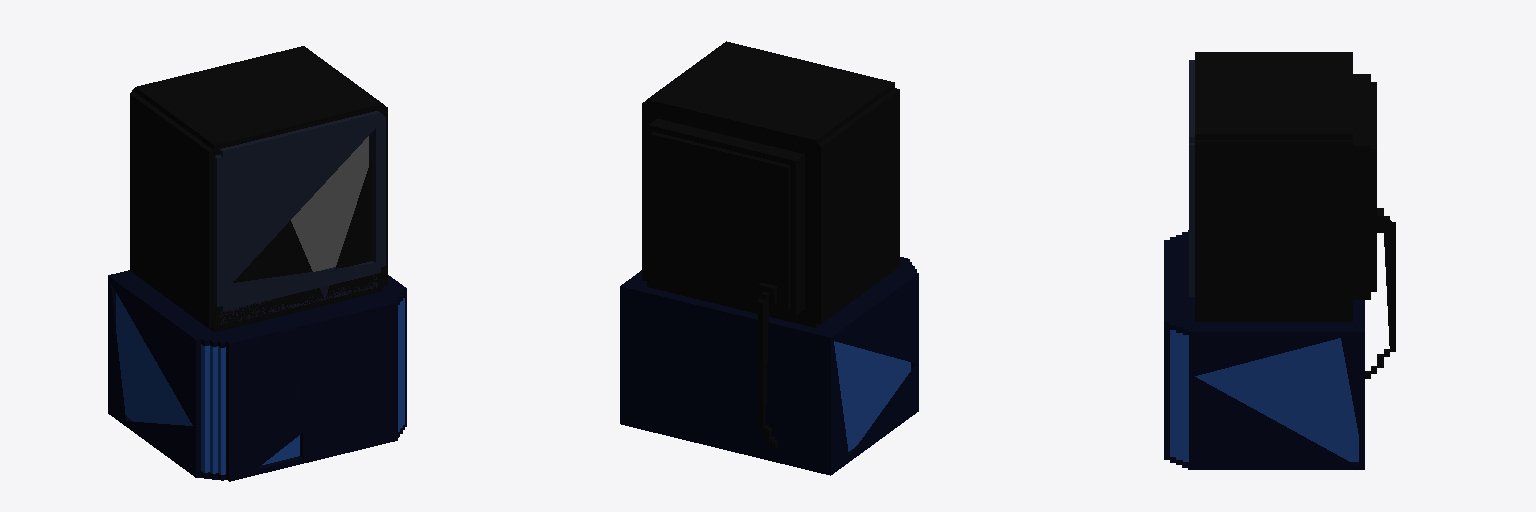
The model's file is TvSmall.obj.
3 views of the same model, side by side, from view 1: azimuth 30°, elevation 25°; view 2: azimuth 150°, elevation 25°; view 3: azimuth 270°, elevation 25° (orthographic).
Parts seen in each view (by area): view 1: TVSmall; view 2: TVSmall; view 3: TVSmall.
Boxes of the visible parts, x1=… form: TVSmall: x1=108, y1=46, x2=406, y2=481; TVSmall: x1=620, y1=41, x2=918, y2=475; TVSmall: x1=1164, y1=52, x2=1395, y2=469.
Size of the model in its own units: 1.55 by 2.28 by 1.47.